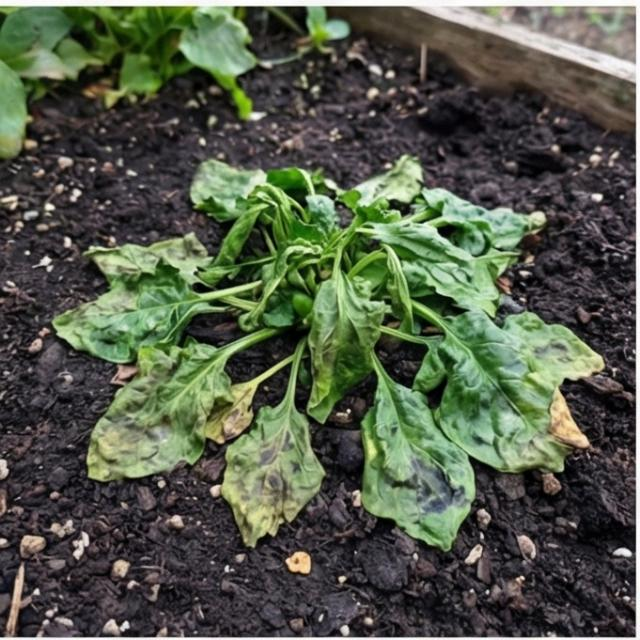rotten spinach: (22, 123, 640, 560)
